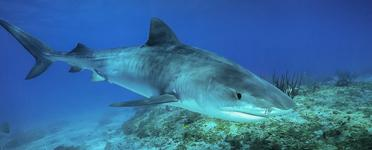Shark -Selachimorpha-: (0, 11, 302, 124)
